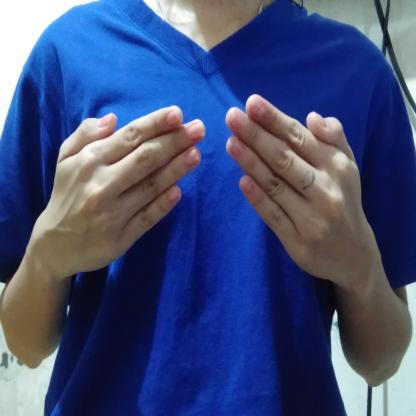night: (36, 87, 377, 291)
